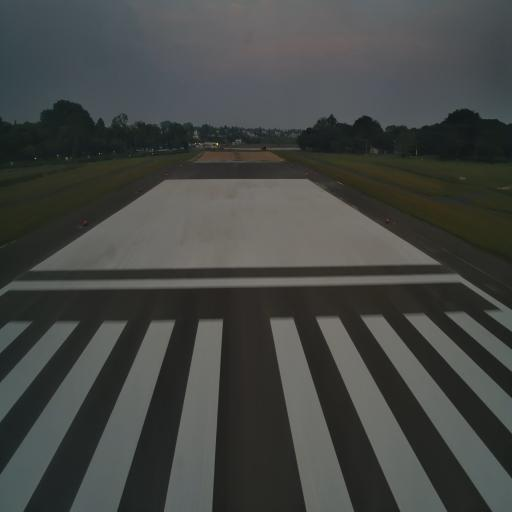off: (330, 186, 334, 192)
on: (82, 218, 87, 228), (386, 217, 390, 224), (140, 187, 143, 193)
